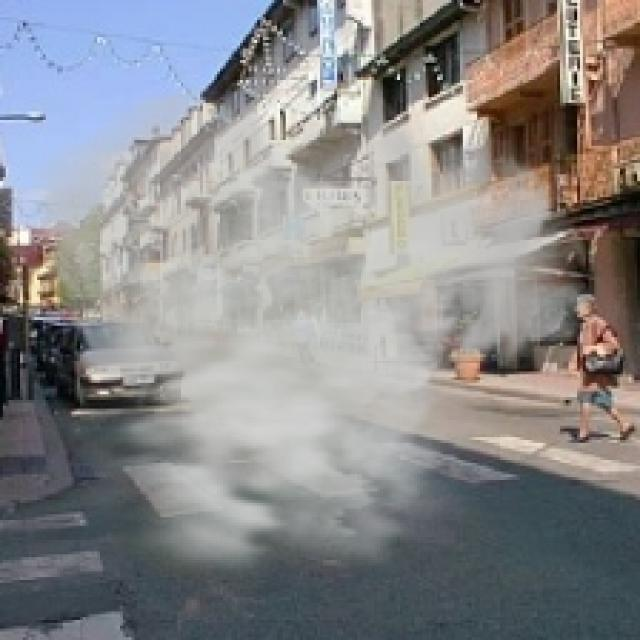Smoke: (26, 83, 594, 600)
